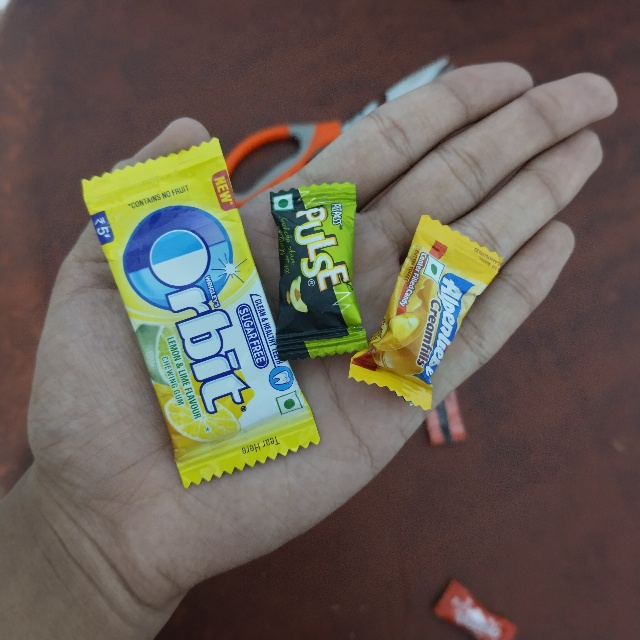Alpenlibe Creamfills: (428, 218, 513, 397)
Orbit: (79, 181, 230, 507)
Pulse: (269, 190, 365, 349)
